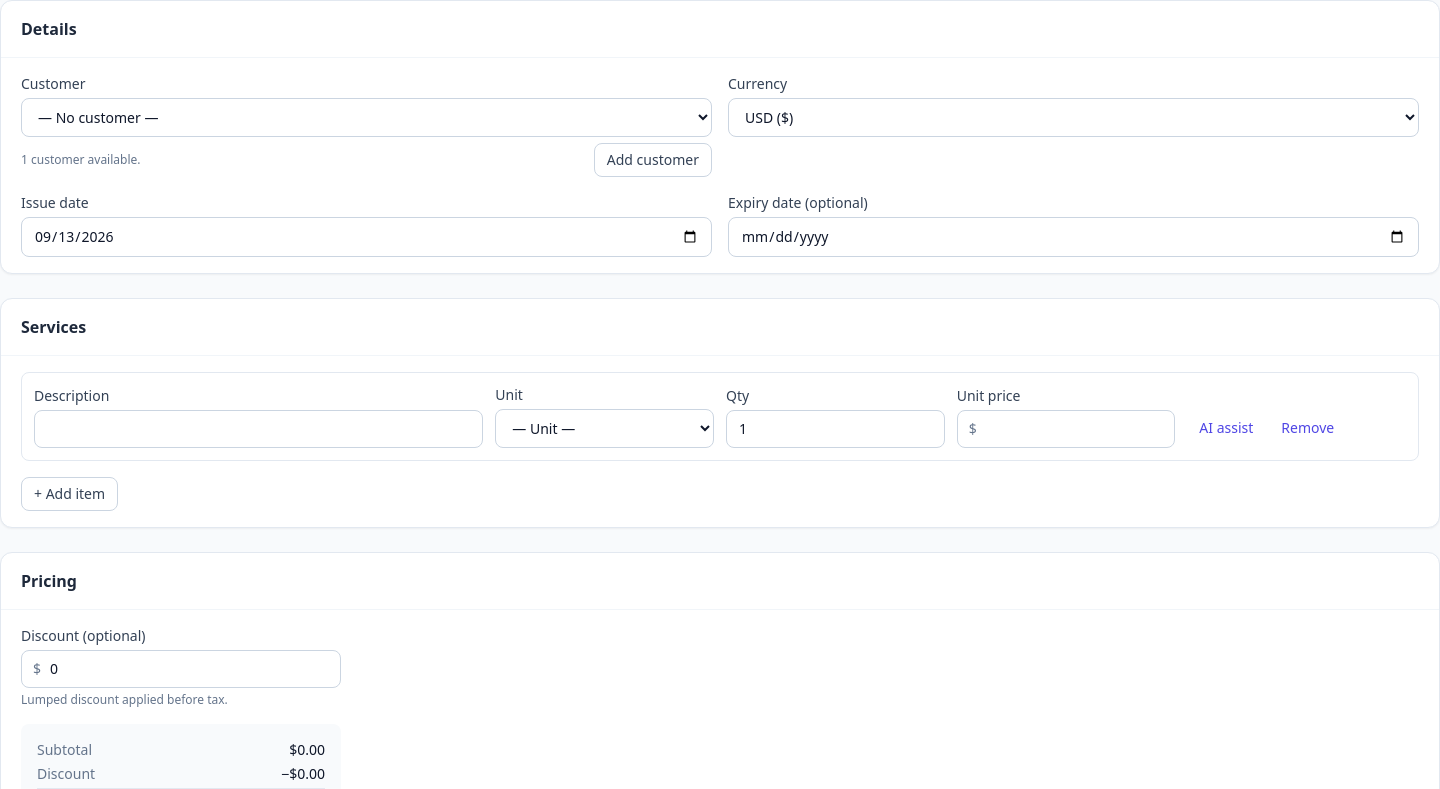
Test: QuoteForm › re-renders totals in the selected currency
The image size is (1440, 789).
Type "Deep clean" into the field labelled "Description".
click(259, 429); type("Deep clean")  # box [34,410,483,448]
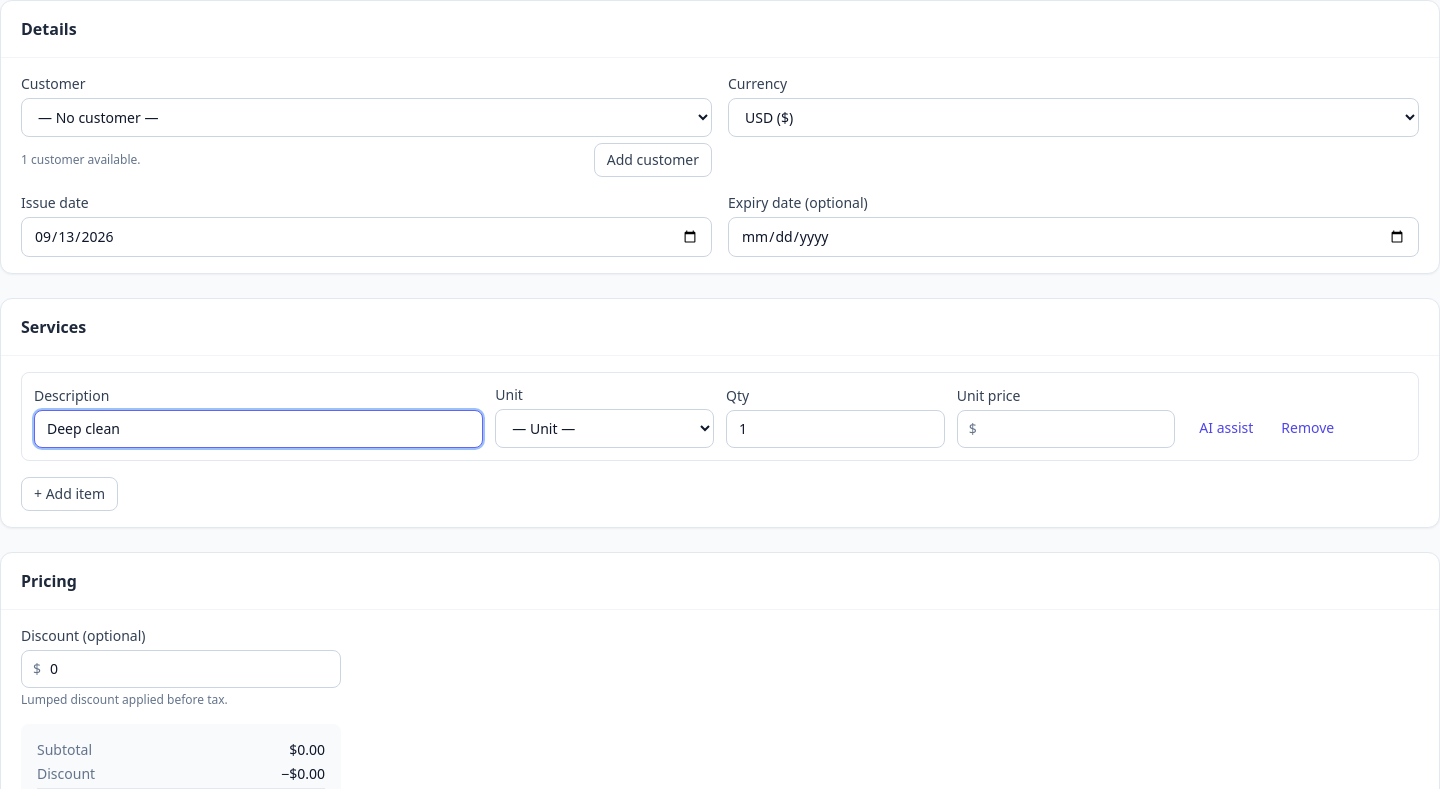
Type "100" into the field labelled "Unit price".
click(1066, 429); type("100")  # box [957,410,1175,448]
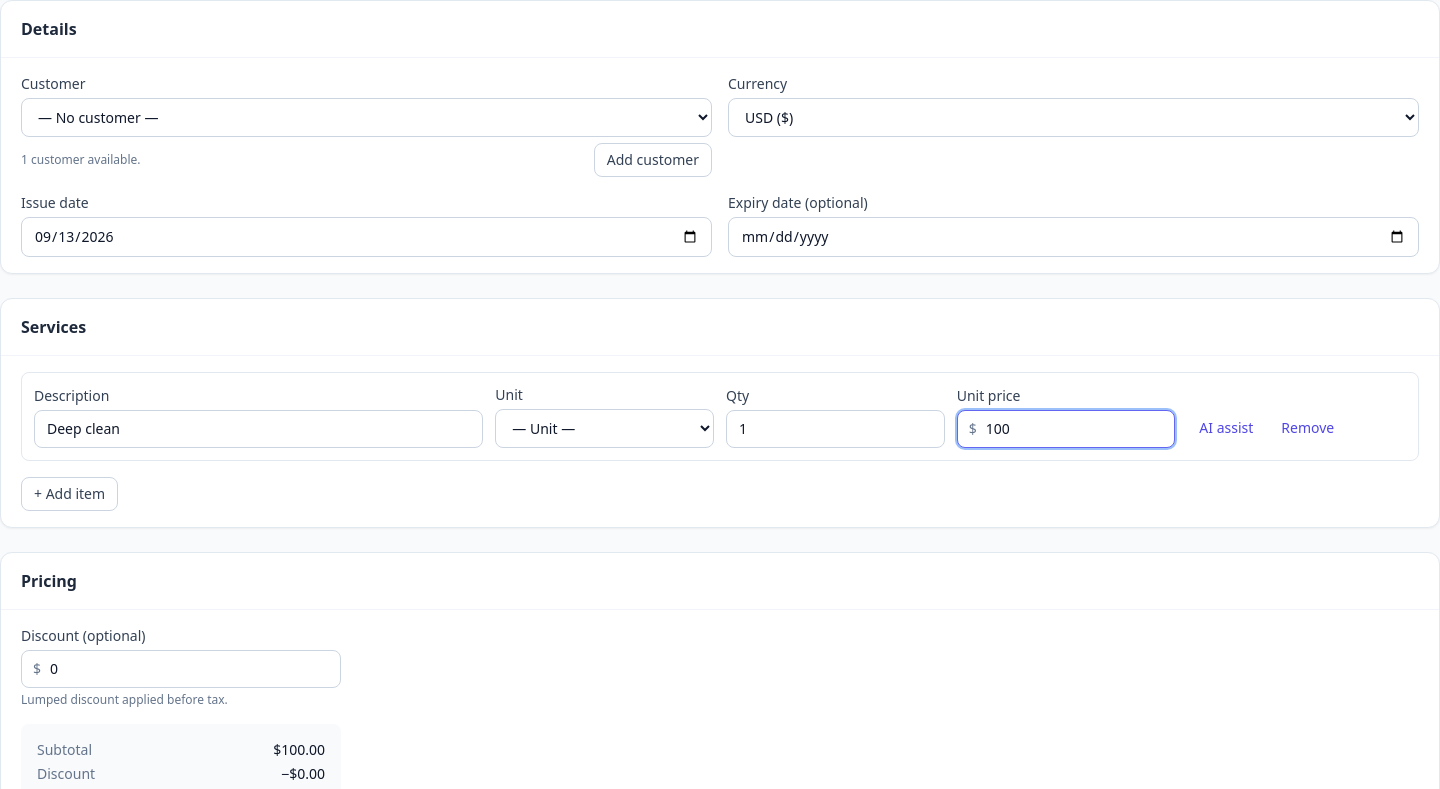
Select "GBP (£)" in the dropdown labelled "Currency" at (1074, 118), box [728,98,1419,137]
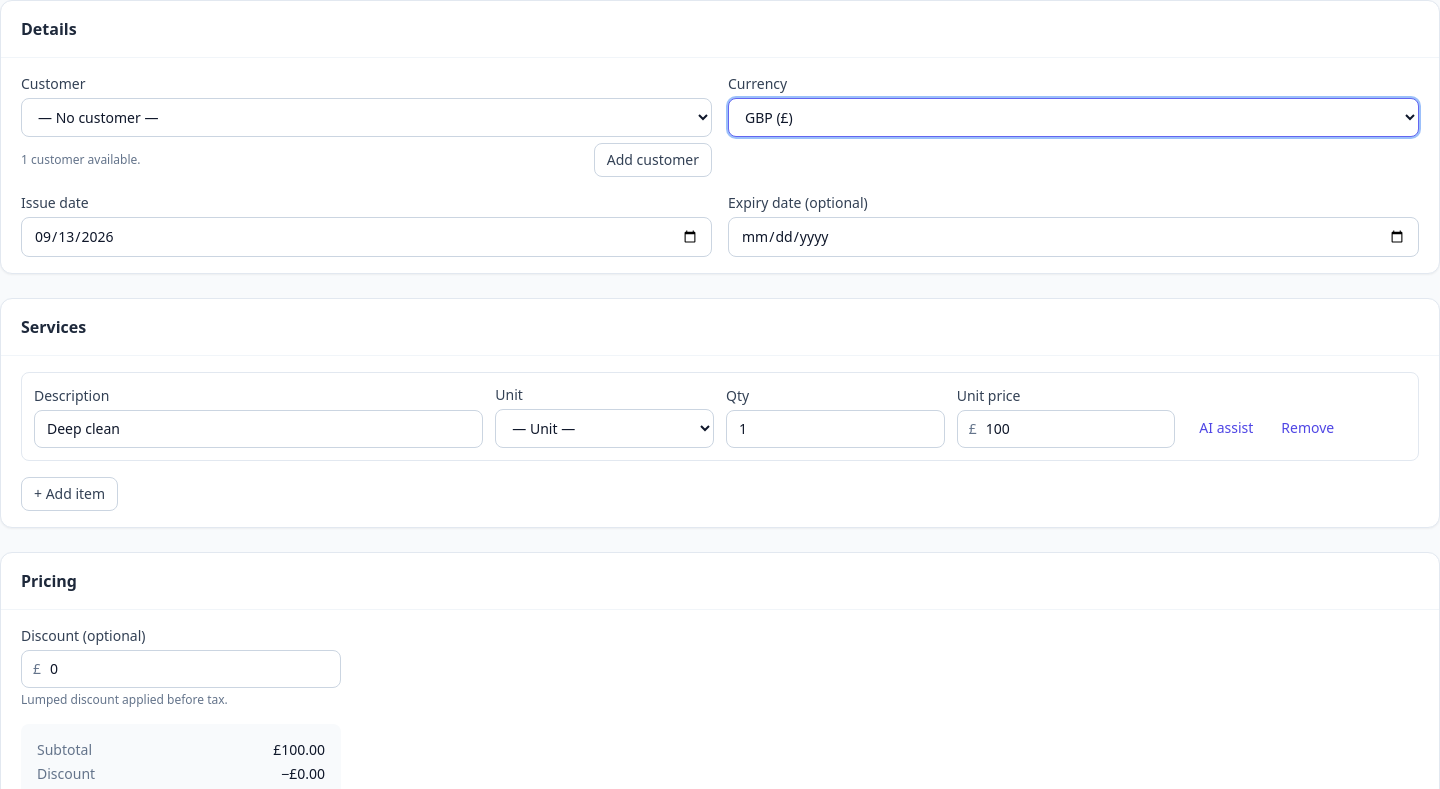
Expected: the text "£100.00" is shown, [273,740,325,759]
